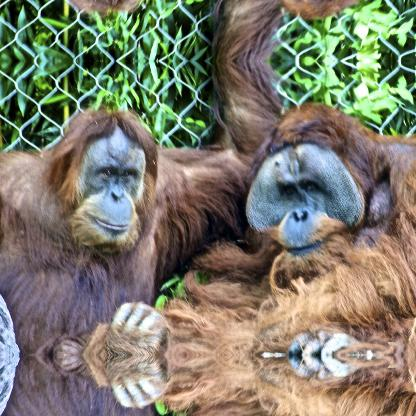Monkey: (0, 60, 281, 355), (0, 0, 281, 61), (0, 355, 281, 415)
